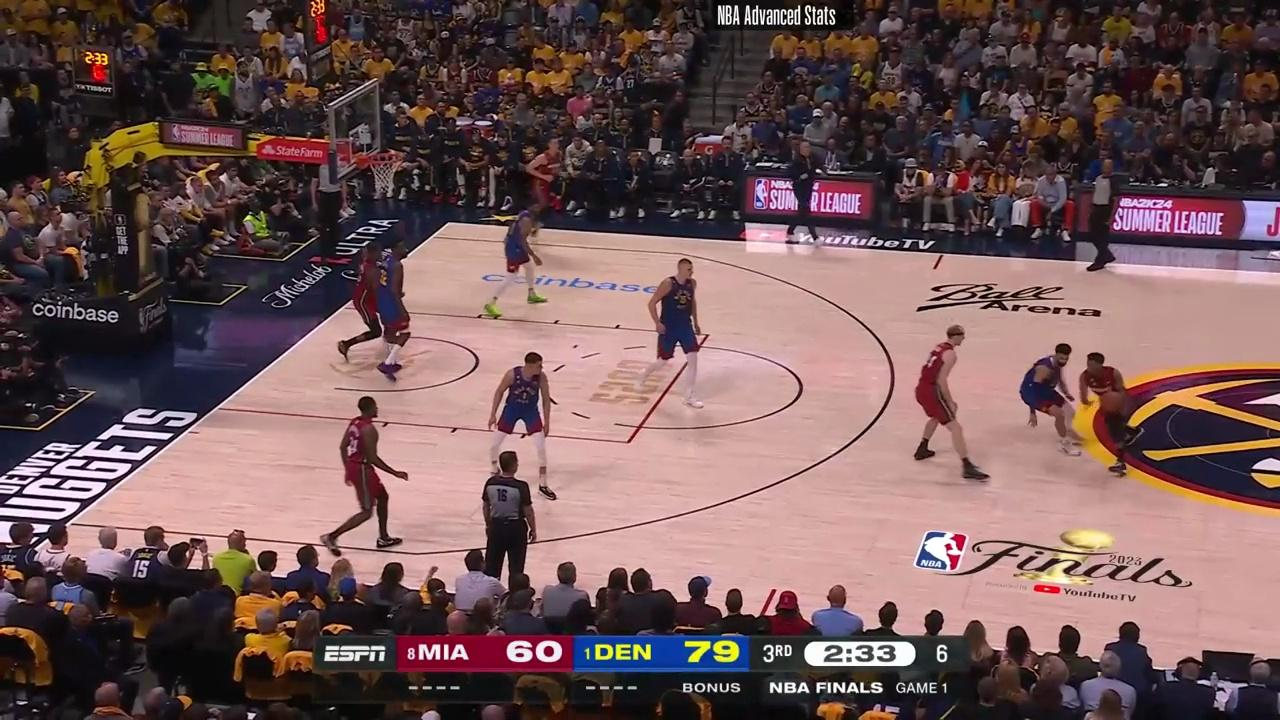Backboard: (328, 81, 378, 182)
Ball: (1099, 391, 1126, 415)
Basket: (368, 152, 399, 191)
Person: (335, 395, 412, 554), (909, 322, 982, 482), (486, 347, 561, 488), (1073, 347, 1145, 484), (1017, 344, 1087, 461), (484, 200, 551, 314), (646, 258, 706, 372), (332, 236, 384, 365), (377, 232, 417, 383), (524, 134, 566, 222)
Referee: (477, 450, 544, 587), (1077, 156, 1125, 274)
Shot Clock: (78, 46, 121, 108)
